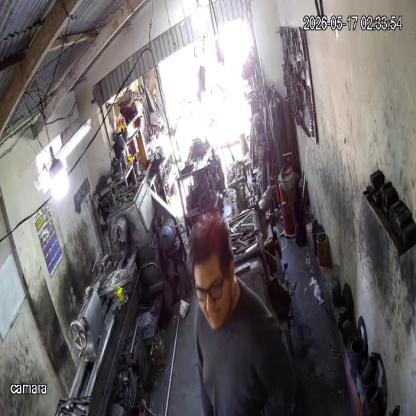lentes: (191, 275, 227, 308)
